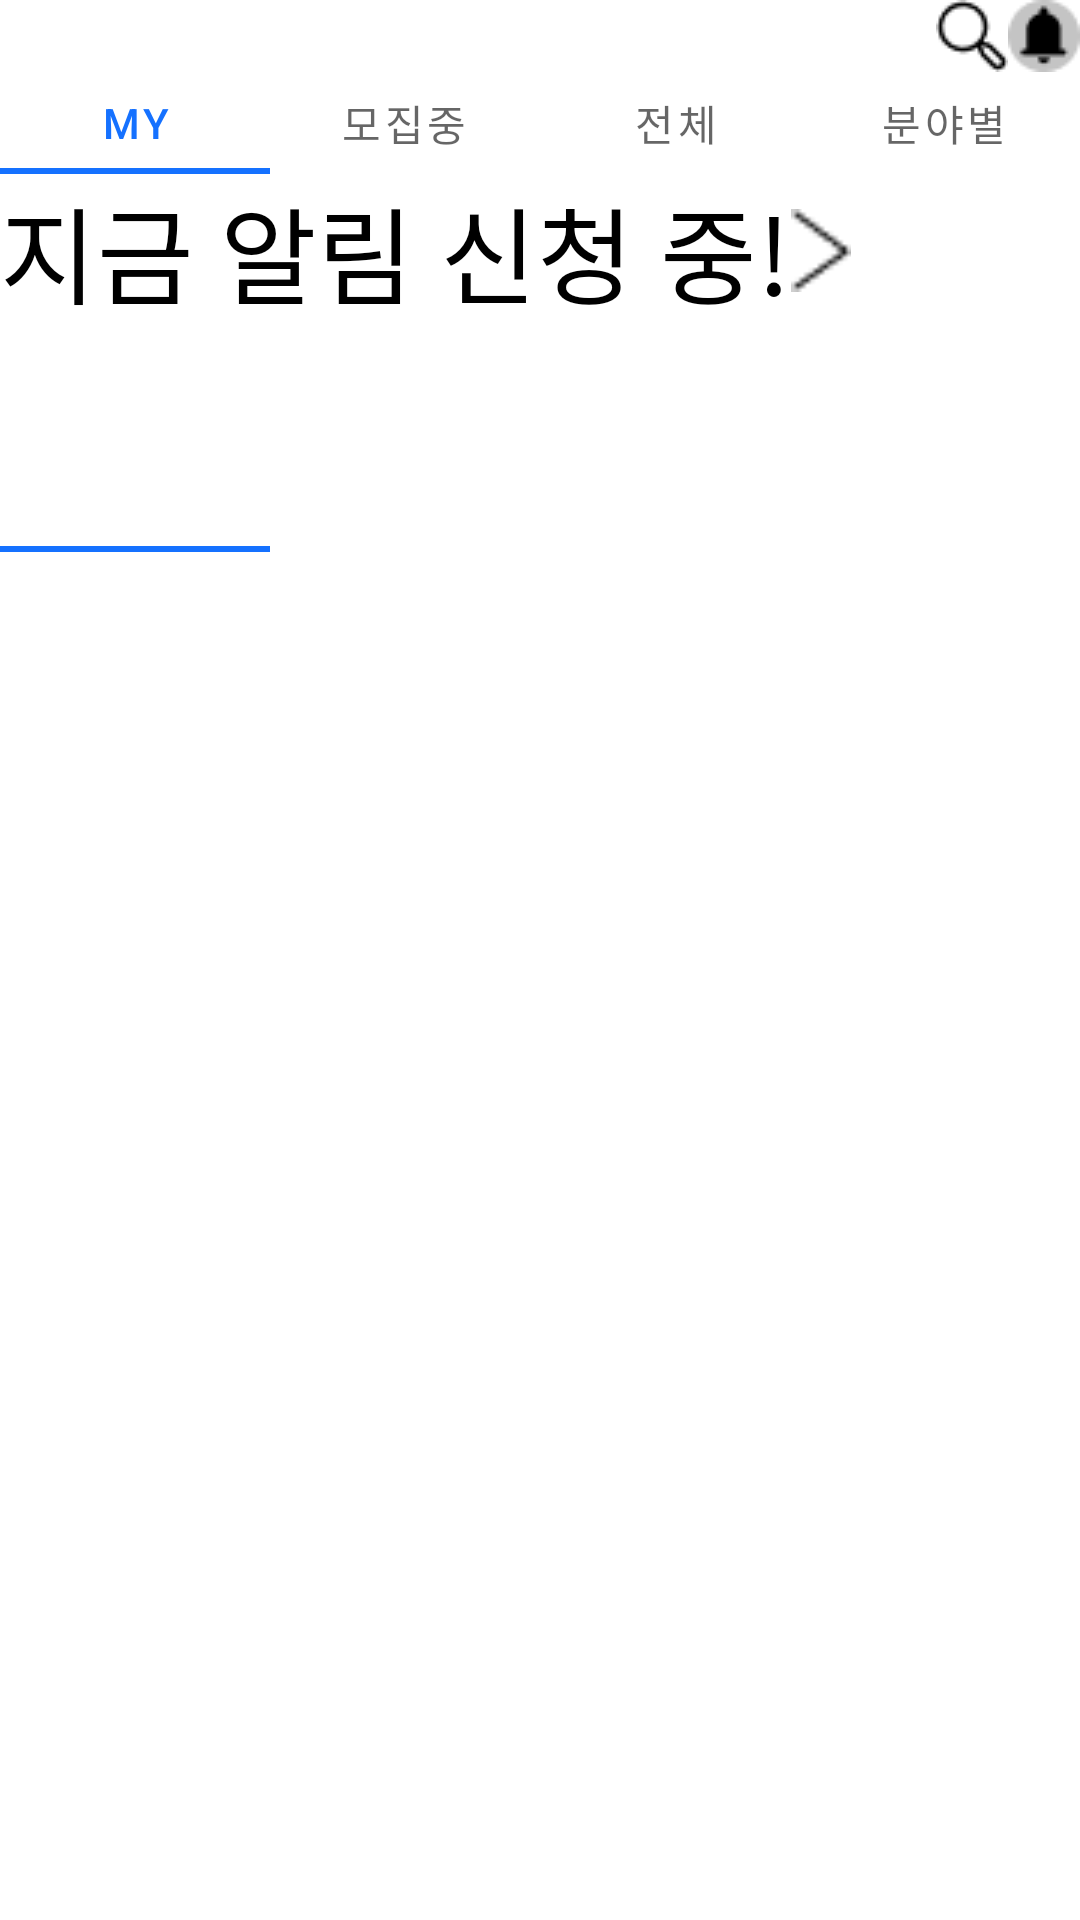

Named icons in this screenshot (1080w x 1920h) and their centers, (x,y):
home alarm: (1044,36)
home search: (972,36)
move: (821,250)
